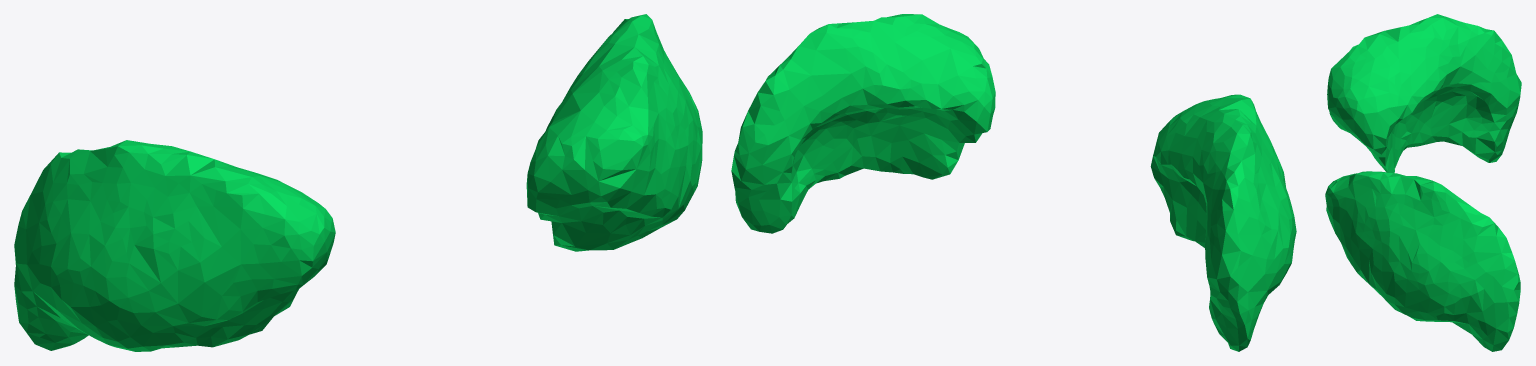
File: 10-EGP-external globus pallidus-('0.0000', '1.0000', '0.4196').obj
3 renders of one model, left to right at view 1: azimuth 30°, elevation 25°; view 2: azimuth 150°, elevation 25°; view 3: azimuth 270°, elevation 25°, orthographic. The views are drawn at different scales.
Size of the model in its own units: 170 by 59.11 by 66.51.
